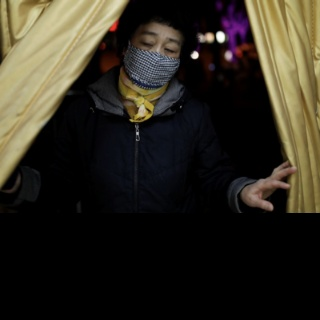with_mask: (124, 29, 182, 88)
